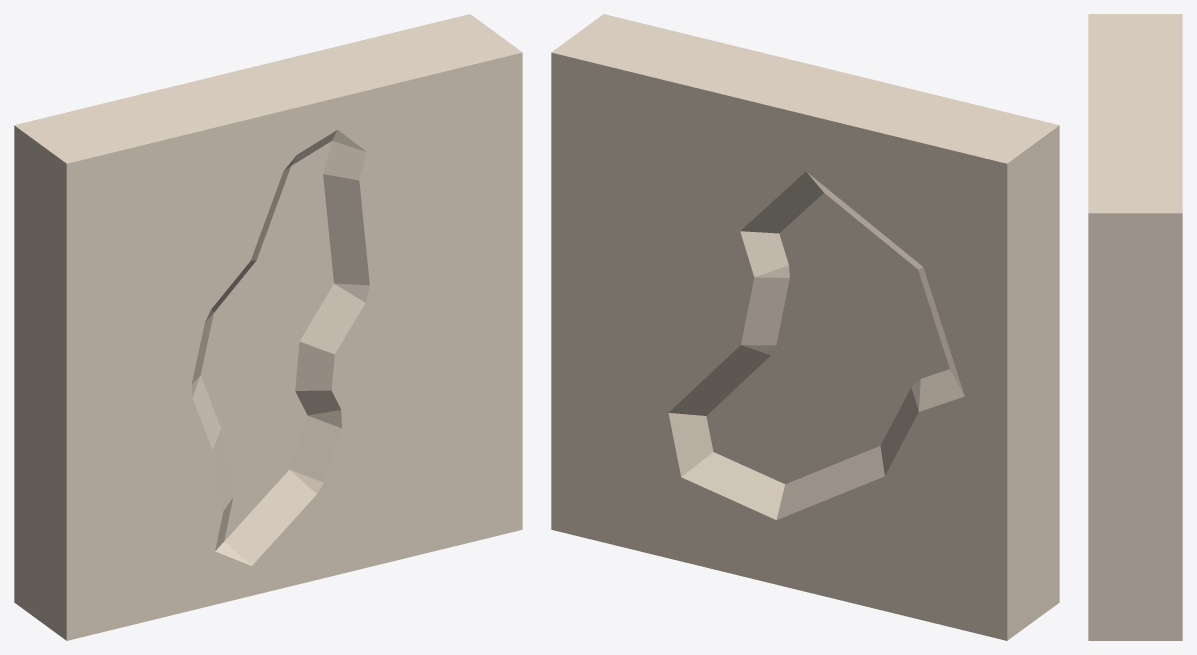
3 views of the same model, side by side, from view 1: azimuth 30°, elevation 25°; view 2: azimuth 150°, elevation 25°; view 3: azimuth 270°, elevation 25° (orthographic). The views are drawn at different scales.
Parts seen in each view (by area): view 1: object13; view 2: object13; view 3: object13.
Part boxes in pixels (x1,y1,x2,y2): object13: (14, 14, 522, 640); object13: (551, 14, 1059, 640); object13: (1088, 14, 1182, 640).
Bounding box in the file's own units: 1 × 1 × 0.2.
